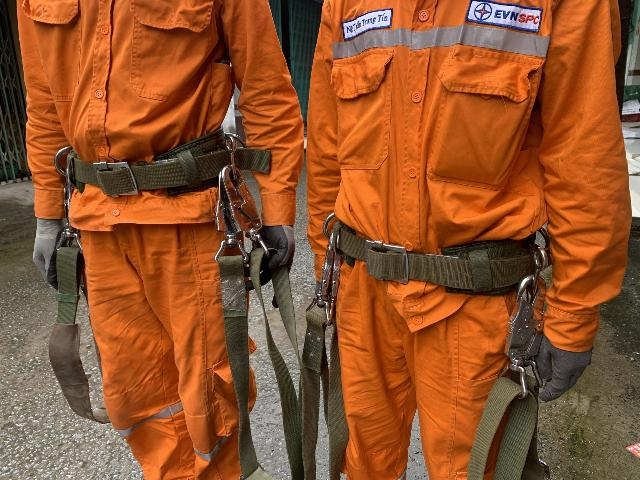gloves: (518, 294, 609, 406), (2, 197, 82, 293), (228, 215, 304, 291)
harness: (297, 192, 557, 310), (14, 130, 282, 218)
